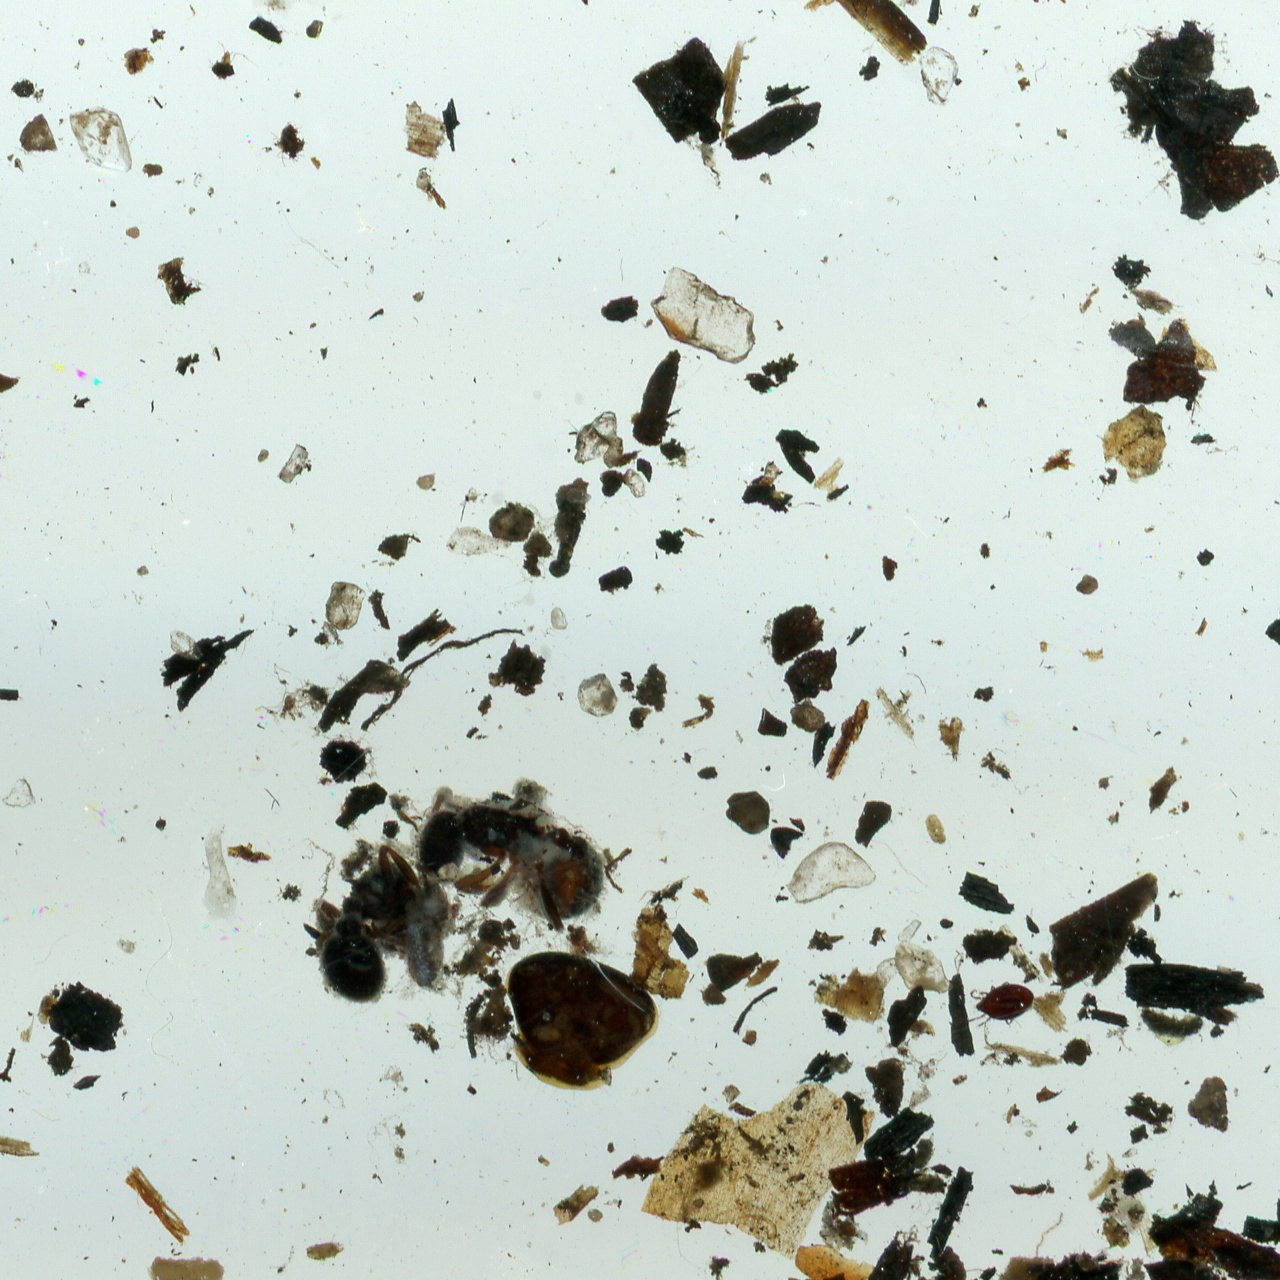arthropod: (372, 775, 623, 948), (310, 837, 424, 1011), (403, 871, 451, 990), (968, 981, 1035, 1029), (694, 135, 722, 190)
